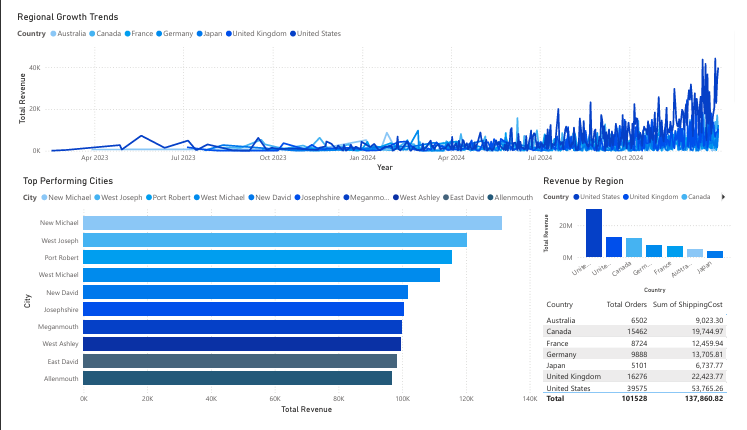

Layout of this report page (visuals, bound fields, positions):
{"tool":"powerbi","page":{"name":"Regional Analysis","canvas":[1280,720],"ordinal":4},"visuals":[{"type":"columnChart","title":"Revenue by Region","fields":{"Y":["_Measures.Total Revenue"],"Series":["customers.Country"],"Category":["customers.Country"]},"box":[934.6,290.9,345.6,214.6],"z":0},{"type":"barChart","title":"Top Performing Cities","fields":{"Category":["customers.City"],"Series":["customers.City"],"Y":["_Measures.Total Revenue"]},"box":[10.1,290.9,924.5,429.1],"z":1000},{"type":"lineChart","title":"Regional Growth Trends","fields":{"Y":["_Measures.Total Revenue"],"Category":["calendar.Date.Variation.Date Hierarchy.Year","calendar.Date.Variation.Date Hierarchy.Quarter","calendar.Date.Variation.Date Hierarchy.Month","calendar.Date.Variation.Date Hierarchy.Day"],"Series":["customers.Country"]},"box":[0,0,1280.2,290.9],"z":2000},{"type":"tableEx","fields":{"Values":["customers.Country","_Measures.Total Orders","Sum(orders.ShippingCost)"]},"box":[934.8,505.6,345.2,213.8],"z":3000}]}

Visuals, with their boxes in screenshot pixels (x1, y1, x2, y2), scaled from the page's 1280x720 canvas onto the 747x430 screenshot:
"Revenue by Region" columnChart: left=545, top=174, right=746, bottom=302
"Top Performing Cities" barChart: left=6, top=174, right=545, bottom=429
"Regional Growth Trends" lineChart: left=0, top=0, right=746, bottom=174
tableEx - customers.Country x _Measures.Total Orders: left=546, top=302, right=746, bottom=429
